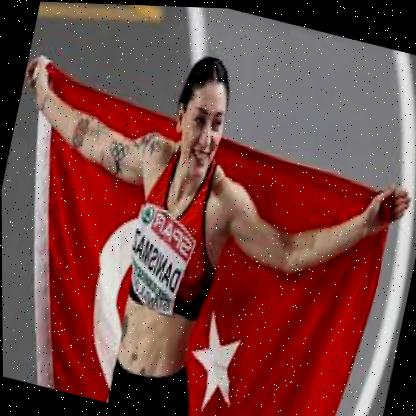person: (162, 44, 239, 177)
